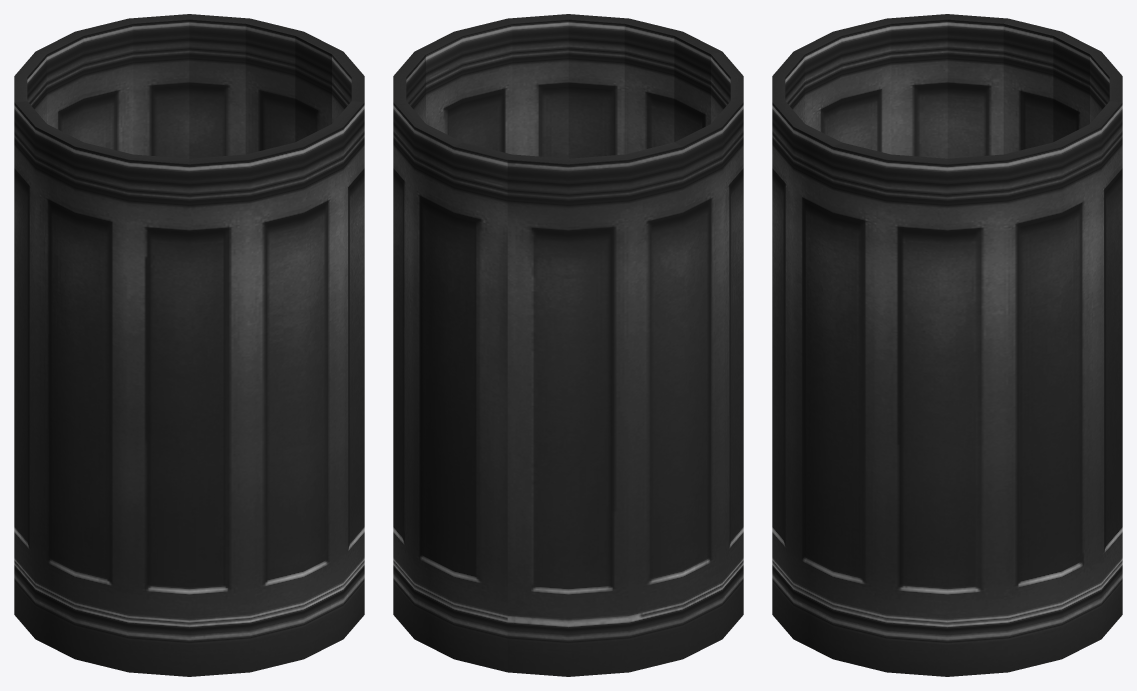
Rendered from trashcan.FBX.
3 views of the same model, side by side, from view 1: azimuth 30°, elevation 25°; view 2: azimuth 150°, elevation 25°; view 3: azimuth 270°, elevation 25° (orthographic).
Visible parts, largest first — view 1: Cylinder002; view 2: Cylinder002; view 3: Cylinder002.
Boxes of the visible parts, bbox=[...] form: Cylinder002: bbox=[14, 14, 364, 676]; Cylinder002: bbox=[393, 14, 743, 676]; Cylinder002: bbox=[772, 14, 1122, 676].
Size of the model in its own units: 8.8 by 14 by 8.67.
